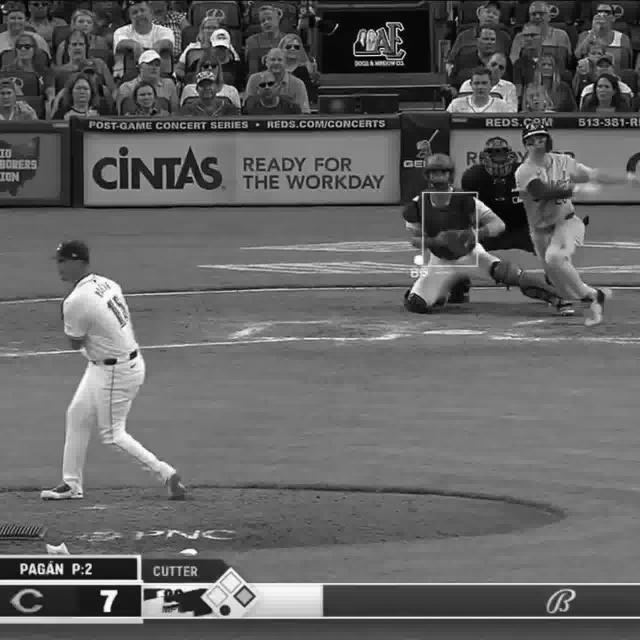base: (420, 327, 489, 336)
baseball_glove: (432, 228, 478, 256)
shoe: (574, 290, 614, 330), (165, 472, 194, 503), (42, 478, 80, 501)
